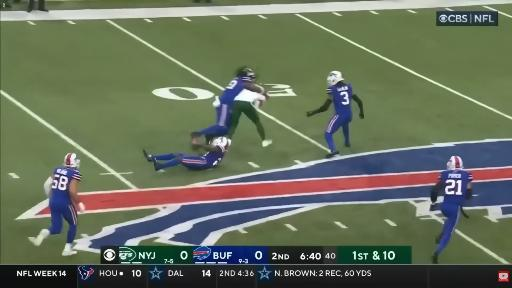Helmet: (64, 152, 80, 168), (447, 155, 464, 169), (327, 72, 345, 84), (215, 137, 230, 147), (245, 69, 255, 79)
Jersey: (49, 167, 82, 207), (439, 170, 472, 205), (219, 77, 249, 107), (327, 83, 352, 118), (203, 146, 225, 167), (235, 90, 265, 102)
Player: (29, 153, 85, 255), (191, 67, 264, 143), (307, 71, 364, 158), (431, 156, 473, 263), (143, 137, 230, 170), (228, 86, 272, 147)
